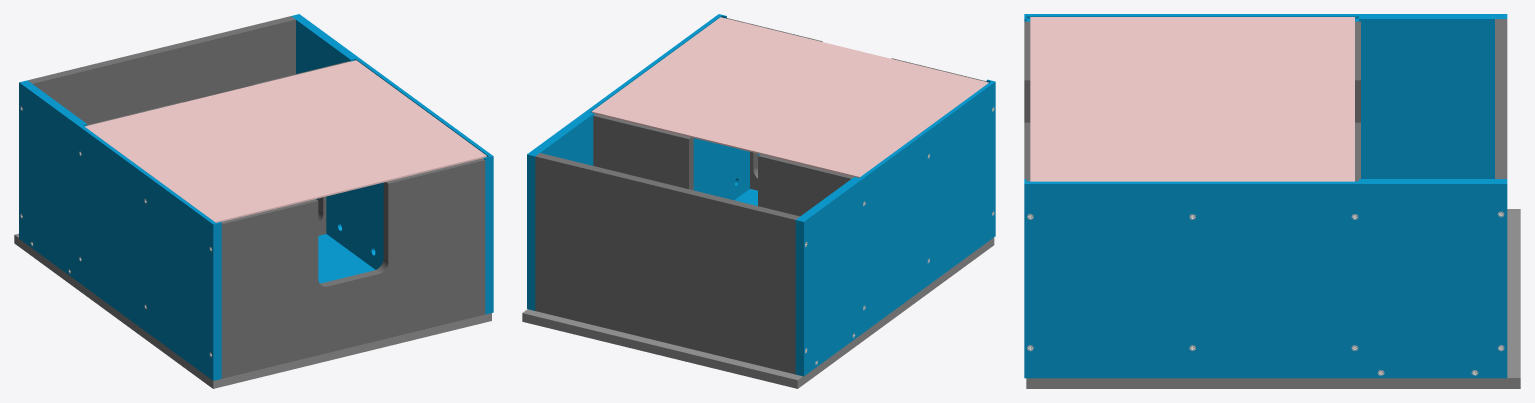
The model's file is PERSP.glb.
3 renders of one model, left to right at view 1: azimuth 30°, elevation 25°; view 2: azimuth 150°, elevation 25°; view 3: azimuth 270°, elevation 25°, orthographic. The views are drawn at different scales.
Parts seen in each view (by area): view 1: *MODEL_SPACE; view 2: *MODEL_SPACE; view 3: *MODEL_SPACE.
Boxes of the visible parts, <box> form: *MODEL_SPACE: <box>14,14,493,388</box>; *MODEL_SPACE: <box>522,14,995,388</box>; *MODEL_SPACE: <box>1024,14,1520,388</box>.
Bounding box in the file's own units: 0.6 × 0.338 × 0.74.
